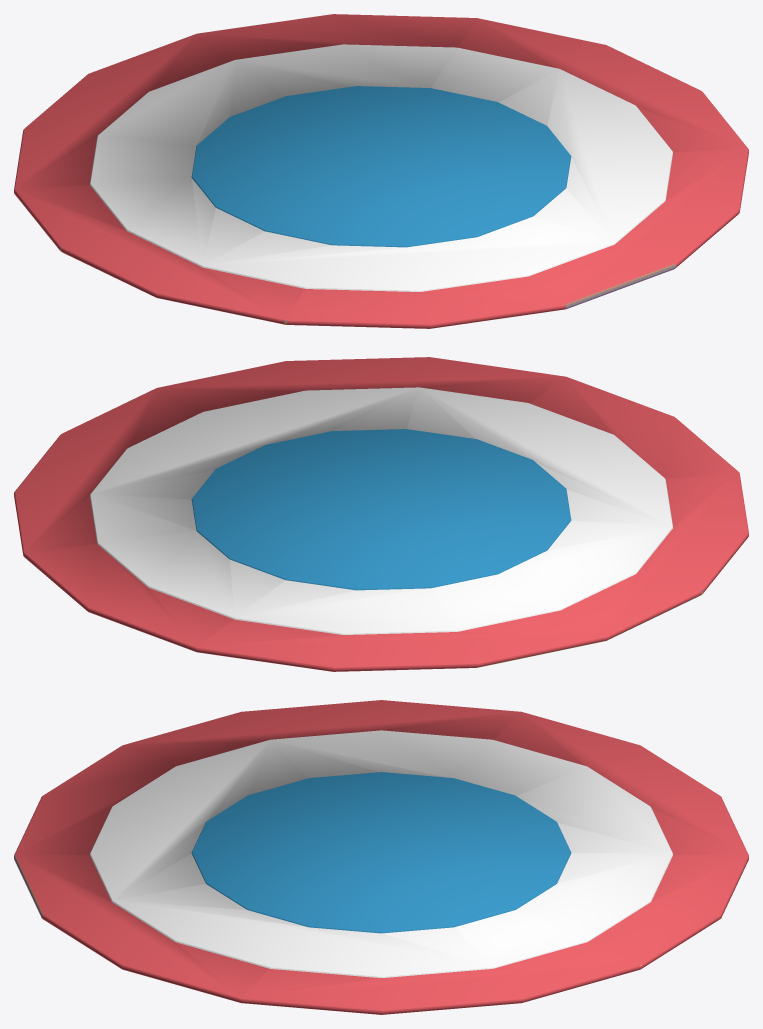
The model's file is tappeto.fbx.
The picture shows the model from 3 angles, top to bottom: view 1: azimuth 30°, elevation 25°; view 2: azimuth 150°, elevation 25°; view 3: azimuth 270°, elevation 25°; orthographic projection.
Visible parts, largest first — view 1: Cylinder.004; view 2: Cylinder.004; view 3: Cylinder.004.
Part boxes in pixels (x1,y1,x2,y2): Cylinder.004: [14, 14, 748, 328]; Cylinder.004: [14, 357, 748, 671]; Cylinder.004: [14, 700, 748, 1014].
Size of the model in its own units: 816 by 9.98 by 816.
